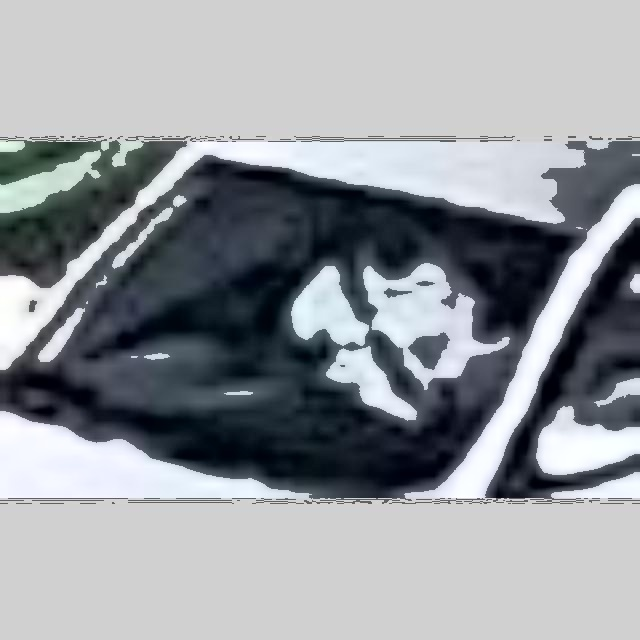pakai: (247, 206, 494, 435)
